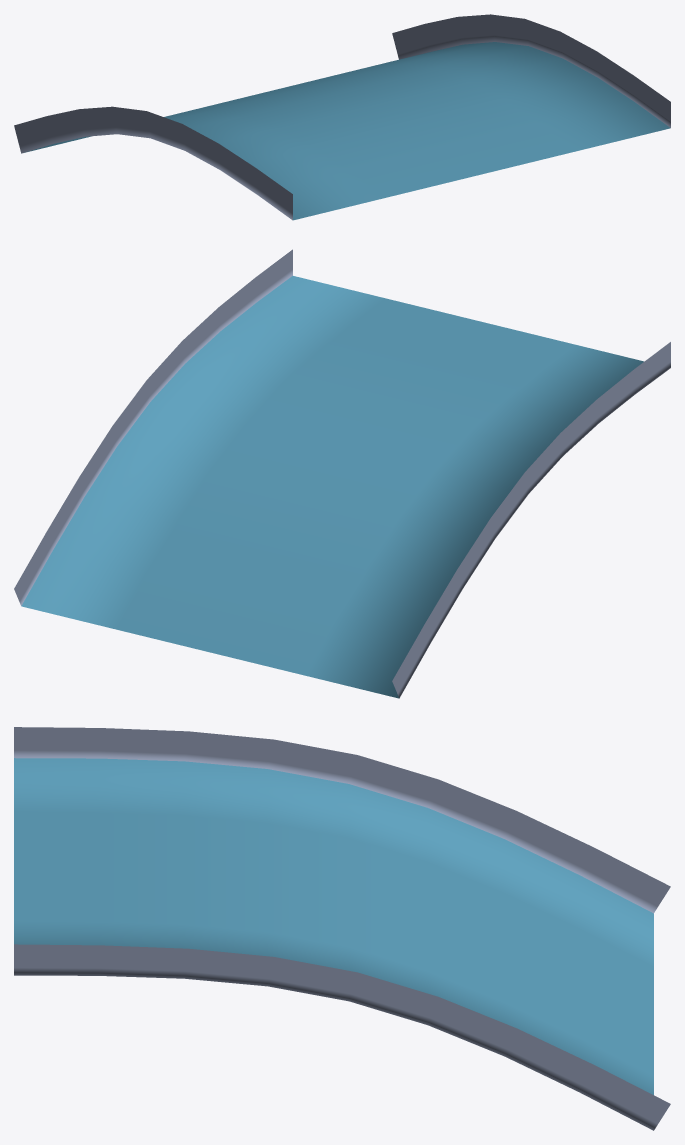
File: Track_DownSlope_30.fbx
3 renders of one model, top to bottom at view 1: azimuth 30°, elevation 25°; view 2: azimuth 150°, elevation 25°; view 3: azimuth 270°, elevation 25°, orthographic. The views are drawn at different scales.
Visible parts, largest first — view 1: DownSlope30; view 2: DownSlope30; view 3: DownSlope30.
Boxes of the visible parts, x1,y1,x2,y2 form: DownSlope30: (14,14,670,220); DownSlope30: (14,249,670,698); DownSlope30: (14,727,670,1130).
Size of the model in its own units: 300 by 120 by 383.
